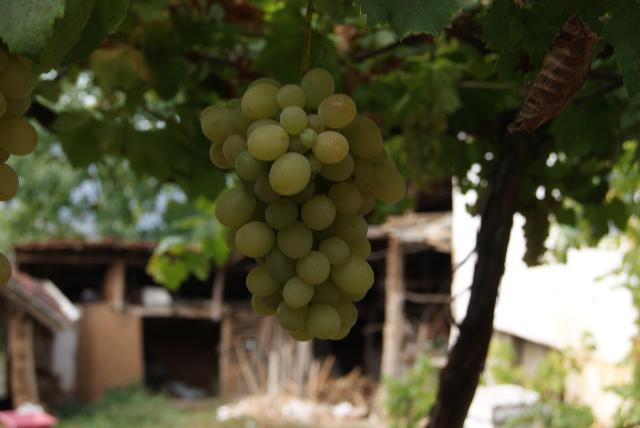grapes: (201, 68, 405, 341)
